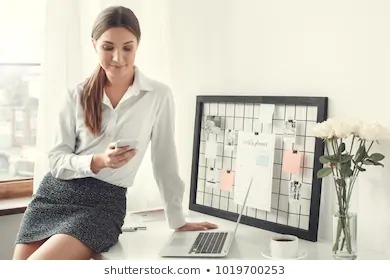F_shirt: (44, 69, 188, 226)
F_tailored skirt: (21, 170, 128, 248)
